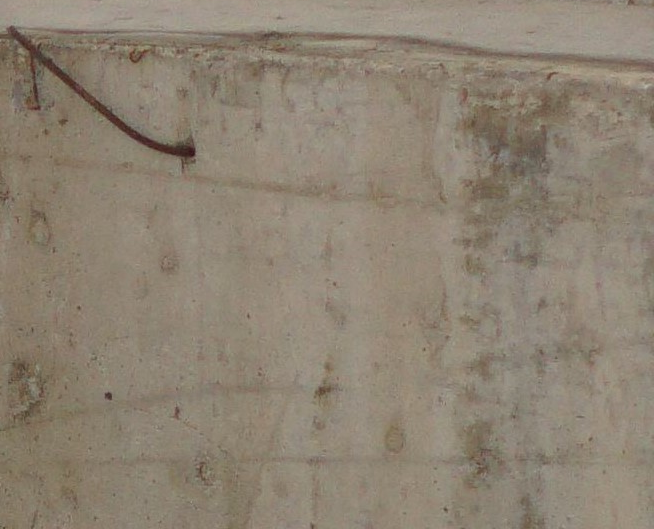Exposed reinforcement: (6, 25, 196, 158)
